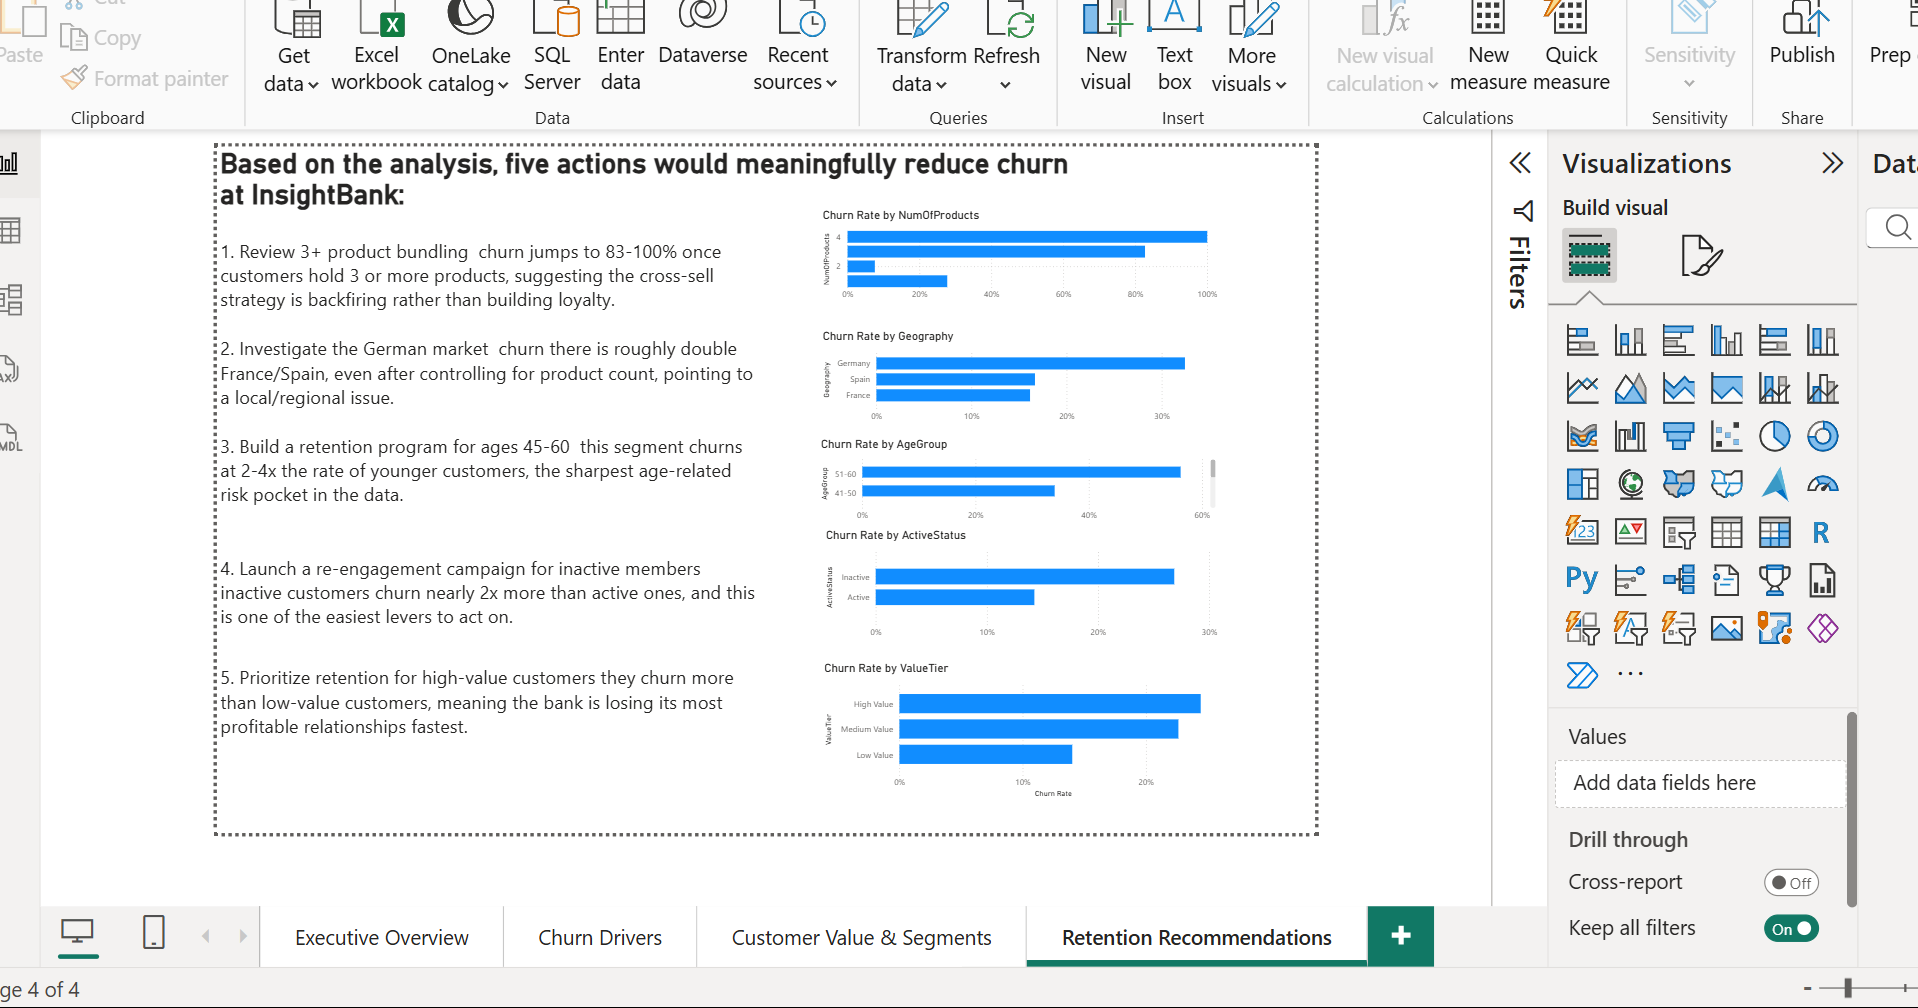

This screenshot's page, from the dashboard's own definition file:
{"tool":"powerbi","page":{"name":"Retention Recommendations","canvas":[1600,1000],"ordinal":3},"visuals":[{"type":"textbox","box":[10,0,1270,94],"z":0},{"type":"textbox","title":"Based on the analysis, five actions would meaningfully reduce churn at InsightBank:","box":[0,0,1280,94],"z":1000},{"type":"textbox","box":[0,110,593.3,890],"z":2000},{"type":"clusteredBarChart","fields":{"Category":["Bank_Churn.NumOfProducts"],"Y":["Bank_Churn.Churn Rate"]},"box":[605,110,585,143.3],"z":3000},{"type":"clusteredBarChart","fields":{"Category":["Bank_Churn.Geography"],"Y":["Bank_Churn.Churn Rate"]},"box":[605,270,585,145],"z":4000},{"type":"clusteredBarChart","fields":{"Category":["Bank_Churn.AgeGroup"],"Y":["Bank_Churn.Churn Rate"]},"box":[605,430,585,133.3],"z":5000},{"type":"clusteredBarChart","fields":{"Category":["Bank_Churn.ValueTier"],"Y":["Bank_Churn.Churn Rate"]},"box":[606.7,770,580,203.3],"z":6001},{"type":"clusteredBarChart","fields":{"Category":["Bank_Churn.ActiveStatus"],"Y":["Bank_Churn.Churn Rate"]},"box":[607.3,563.4,580.5,168.3],"z":6002}]}

Visuals, with their boxes on the page's 1600x1000 design canvas (x1, y1, x2, y2). These are canvas units, not pixel positions in the 1918x1008 screenshot, which may show the page scaled, cropped or inside an application window:
textbox: locate(10, 0, 1280, 94)
"Based on the analysis, five actions would meaningfully reduce churn at InsightBank:" textbox: locate(0, 0, 1280, 94)
textbox: locate(0, 110, 593, 1000)
clusteredBarChart - Bank_Churn.NumOfProducts x Bank_Churn.Churn Rate: locate(605, 110, 1190, 253)
clusteredBarChart - Bank_Churn.Geography x Bank_Churn.Churn Rate: locate(605, 270, 1190, 415)
clusteredBarChart - Bank_Churn.AgeGroup x Bank_Churn.Churn Rate: locate(605, 430, 1190, 563)
clusteredBarChart - Bank_Churn.ValueTier x Bank_Churn.Churn Rate: locate(607, 770, 1187, 973)
clusteredBarChart - Bank_Churn.ActiveStatus x Bank_Churn.Churn Rate: locate(607, 563, 1188, 732)
